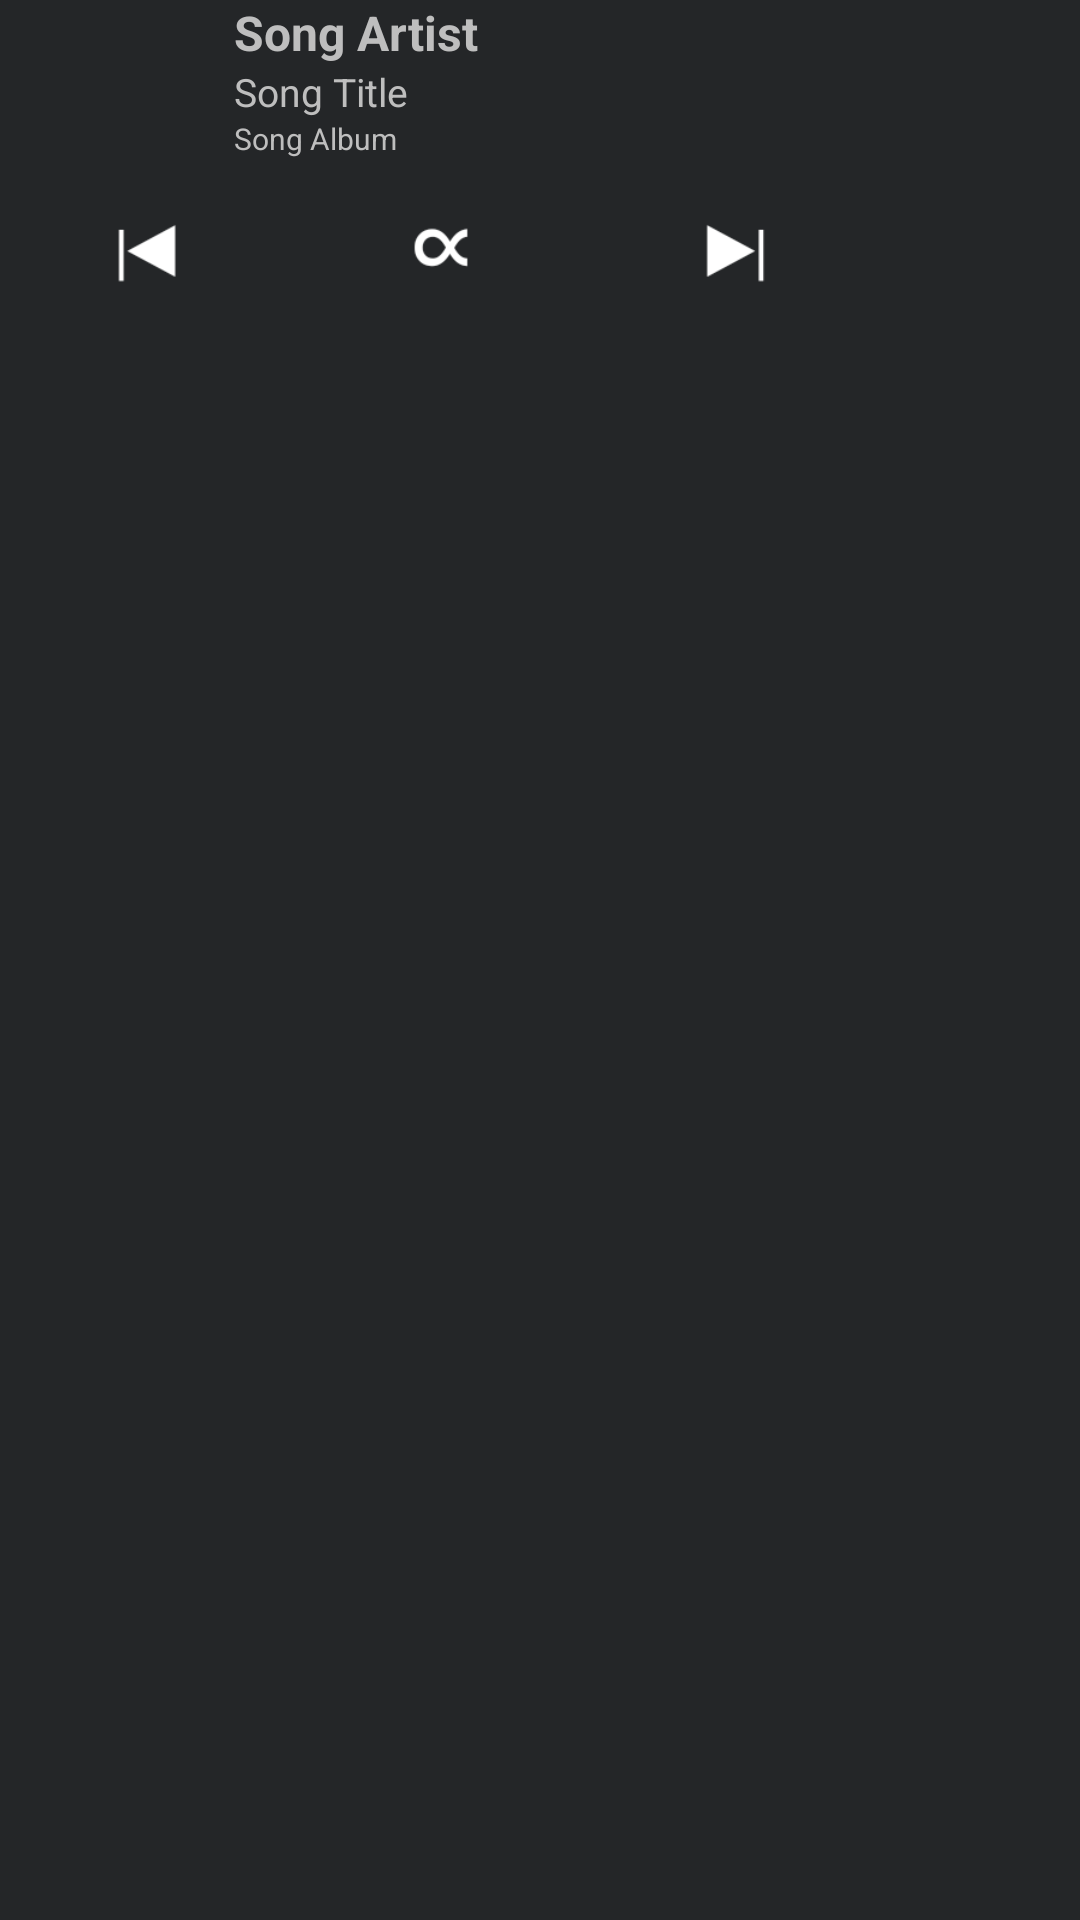

Point at icon controls on the screen. Image size 1080×1920, points as (x=x, y=y).
back: (x=147, y=253)
next: (x=735, y=253)
